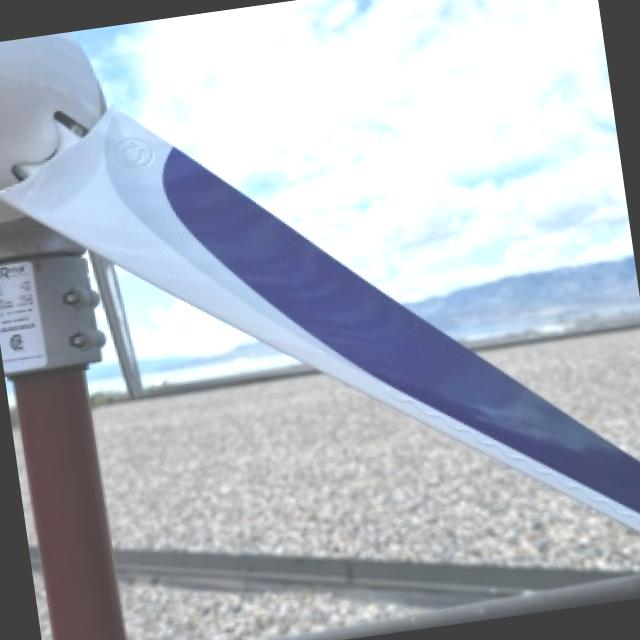healthy: (125, 585, 372, 640)
